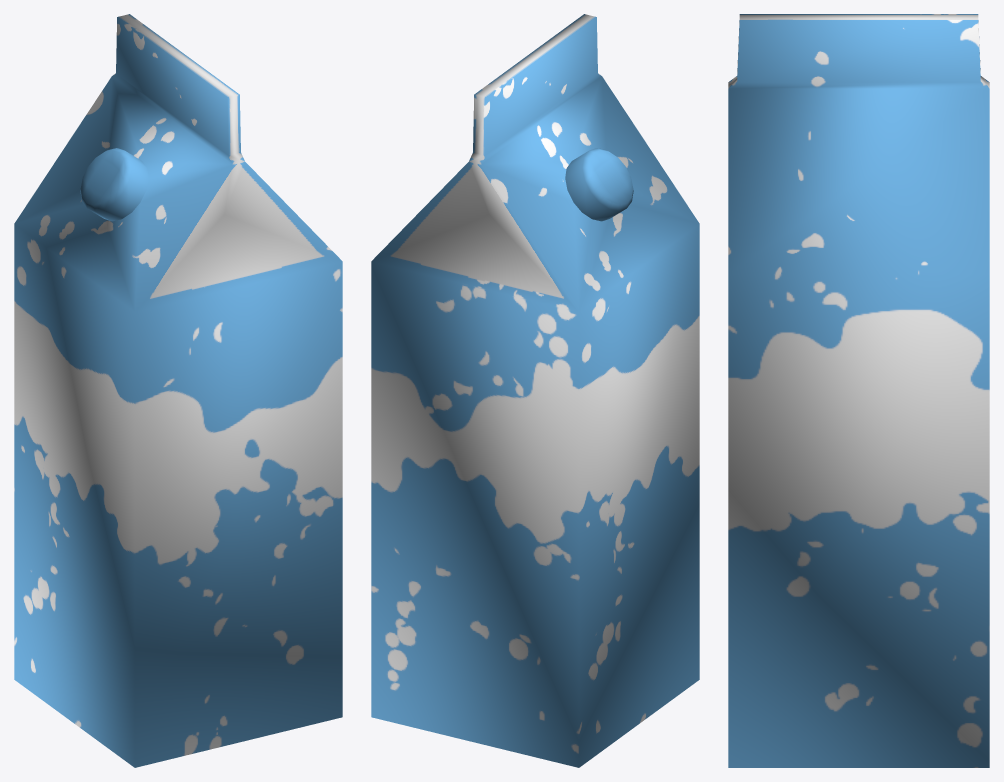
The model's file is milk.glb.
3 renders of one model, left to right at view 1: azimuth 30°, elevation 25°; view 2: azimuth 150°, elevation 25°; view 3: azimuth 270°, elevation 25°, orthographic. The views are drawn at different scales.
Visible parts, largest first — view 1: milk, milk.001; view 2: milk, milk.001; view 3: milk.
Part boxes in pixels (x1,y1,x2,y2): milk: (14, 14, 342, 767); milk.001: (80, 148, 148, 221); milk: (371, 14, 699, 767); milk.001: (565, 148, 633, 221); milk: (728, 14, 989, 767).
Size of the model in its own units: 0.3434 by 1.01 by 0.3453.
1 material, 1 textured.
